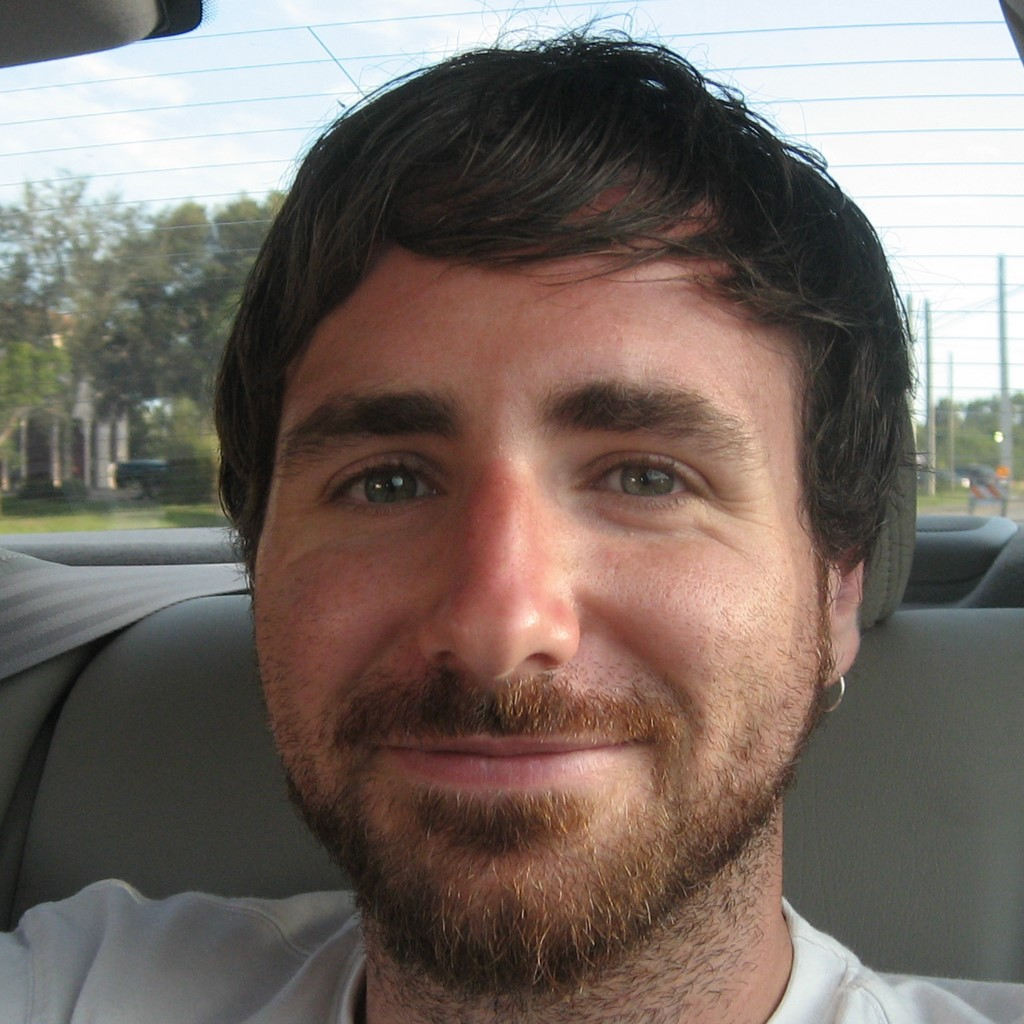sin_mascara: (258, 149, 830, 954)
